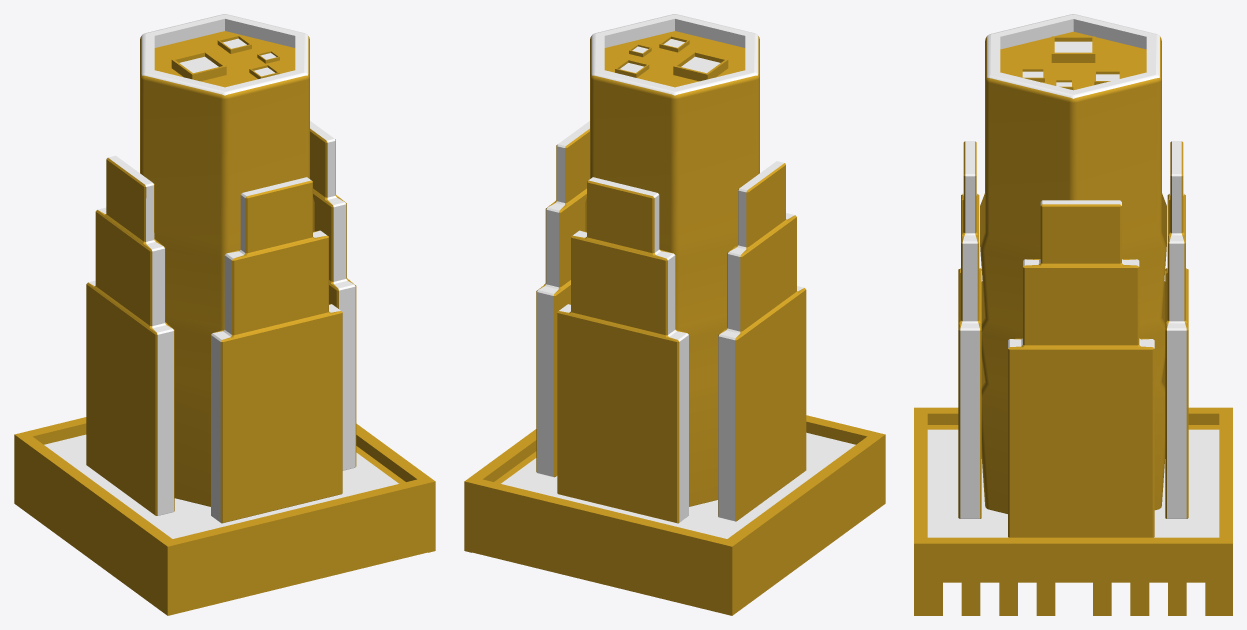
Rendered from Building_24_Yellow.glb.
The picture shows the model from 3 angles, left to right: view 1: azimuth 30°, elevation 25°; view 2: azimuth 150°, elevation 25°; view 3: azimuth 270°, elevation 25°; orthographic projection. The views are drawn at different scales.
Visible parts, largest first — view 1: pCube17; view 2: pCube17; view 3: pCube17.
Part boxes in pixels (x1,y1,x2,y2): pCube17: (14, 14, 435, 615); pCube17: (464, 14, 885, 615); pCube17: (914, 14, 1232, 615).
Bounding box in the file's own units: 5393 × 9133 × 5350.
